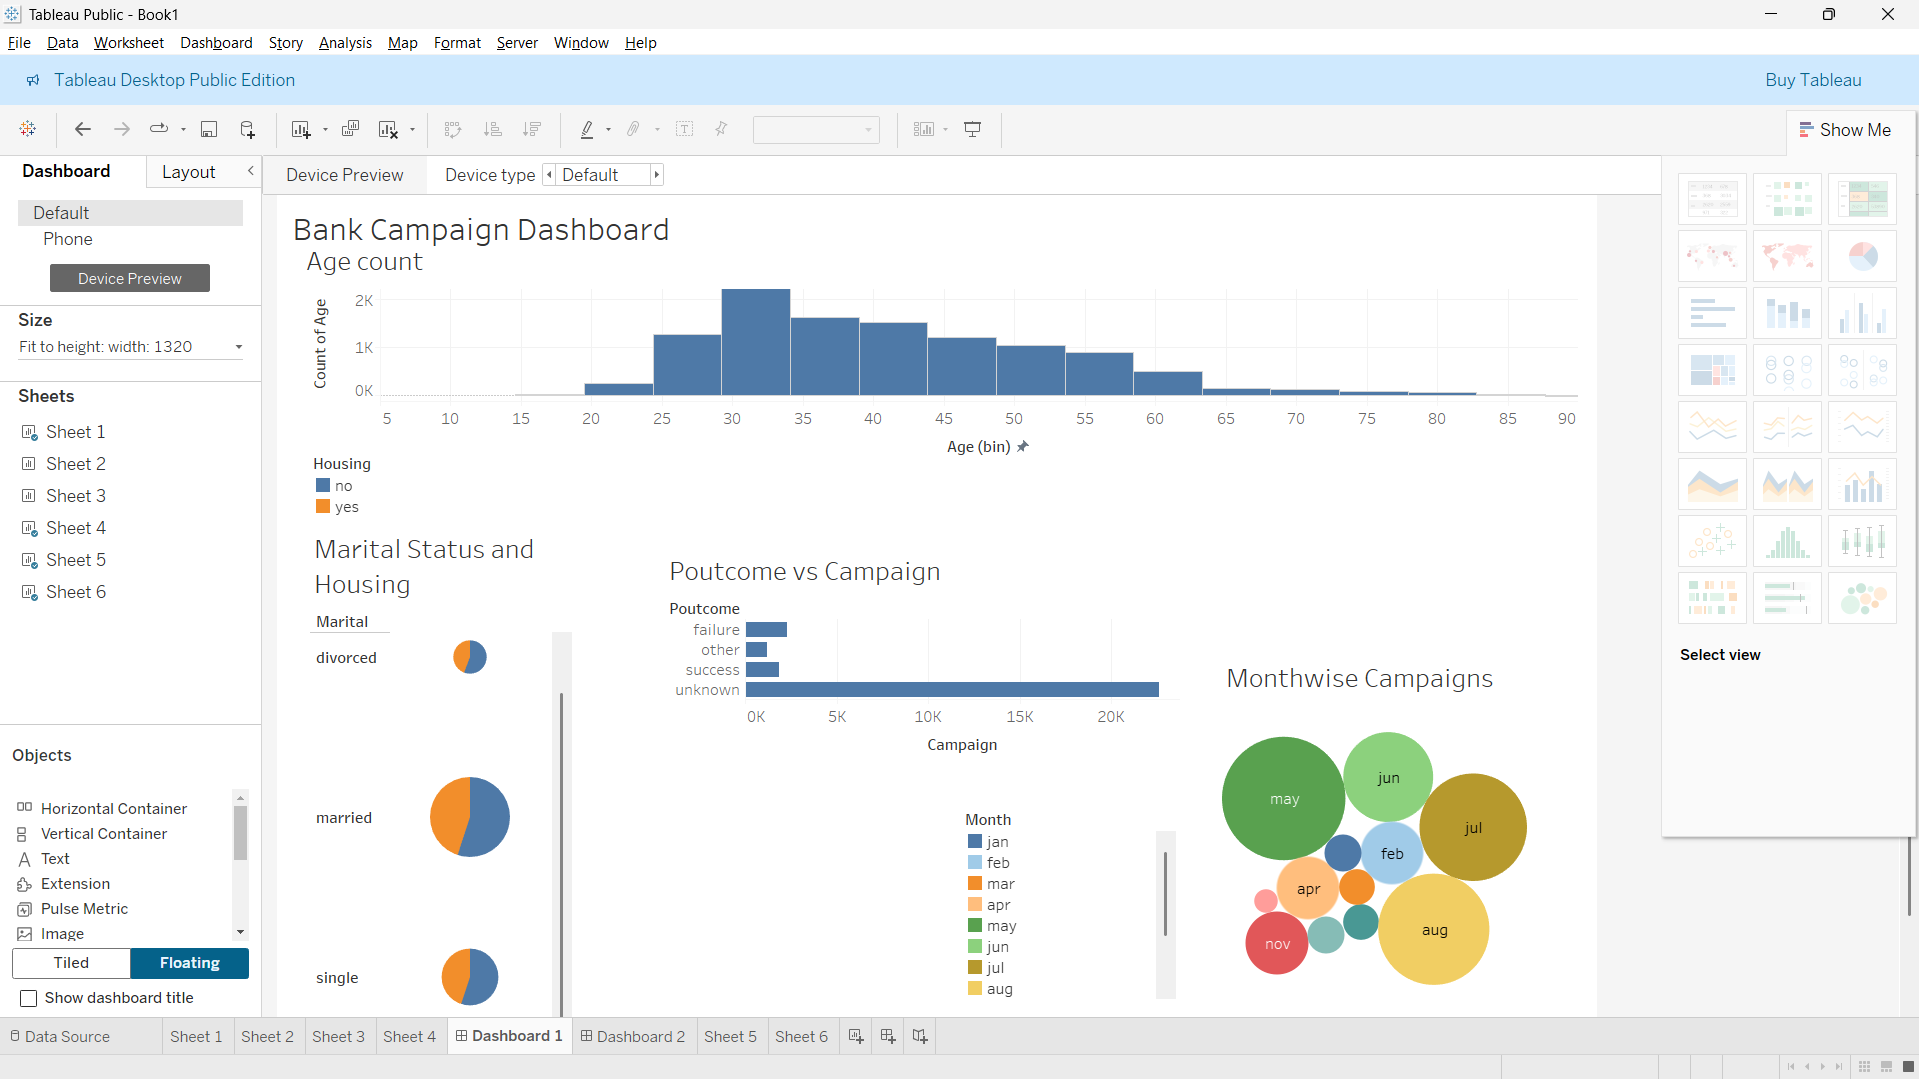

Layout of this report page (visuals, bound fields, positions):
{"tool":"tableau","page":{"name":"Dashboard 1","canvas":[1000,1000],"units":"permille","ordinal":0},"visuals":[{"type":"title","box":[6.1,9.3,987.9,58.1]},{"type":"worksheet","title":"Sheet 2","mark":"Automatic","rows":["education"],"cols":["age"],"box":[6.1,67.4,987.9,256]},{"type":"legend","title":"Sheet 4","param":"[federated.0dkbxx600qmcqn16ktc4n06hsnao].[none:month:nk]","box":[830.3,320.9,161.4,220.9]},{"type":"legend","title":"Sheet 1","param":"[federated.0dkbxx600qmcqn16ktc4n06hsnao].[none:housing:nk]","box":[6.1,323.4,987.9,83.7]},{"type":"worksheet","title":"Sheet 3","mark":"Circle","rows":["campaign"],"cols":["poutcome"],"box":[279.6,376.7,400,527.9]},{"type":"worksheet","title":"Sheet 1","mark":"Pie","rows":["marital"],"box":[6.1,407.1,987.9,555.8]},{"type":"worksheet","title":"Sheet 4","mark":"Circle","box":[715.9,536,265.9,412.8]}]}

Visuals, with their boxes on the dashboard's canvas, which has no fixed pixel size, in thousandths of its width and height (x1, y1, x2, y2). These are canvas units, not pixel positions in the 1919x1079 screenshot, which may show the page scaled, cropped or inside an application window:
title: [6, 9, 994, 67]
"Sheet 2" worksheet: [6, 67, 994, 323]
"Sheet 4" legend: [830, 321, 992, 542]
"Sheet 1" legend: [6, 323, 994, 407]
"Sheet 3" worksheet (Circle marks): [280, 377, 680, 905]
"Sheet 1" worksheet (Pie marks): [6, 407, 994, 963]
"Sheet 4" worksheet (Circle marks): [716, 536, 982, 949]
